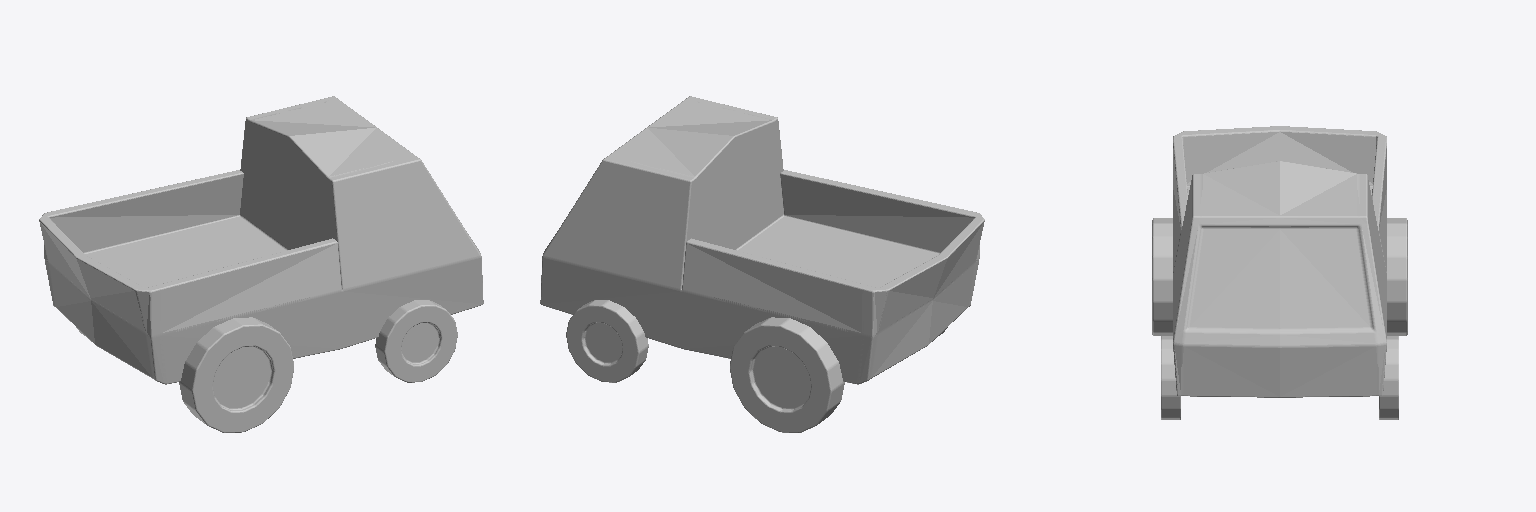
The model's file is WarExplorer.obj.
3 renders of one model, left to right at view 1: azimuth 30°, elevation 25°; view 2: azimuth 150°, elevation 25°; view 3: azimuth 270°, elevation 25°, orthographic.
Parts seen in each view (by area): view 1: Cube; view 2: Cube; view 3: Cube.
Part boxes in pixels (x1,y1,x2,y2): Cube: (39,96,483,432); Cube: (540,96,984,432); Cube: (1152,126,1407,419).
Size of the model in its own units: 2.92 by 1.73 by 1.79.